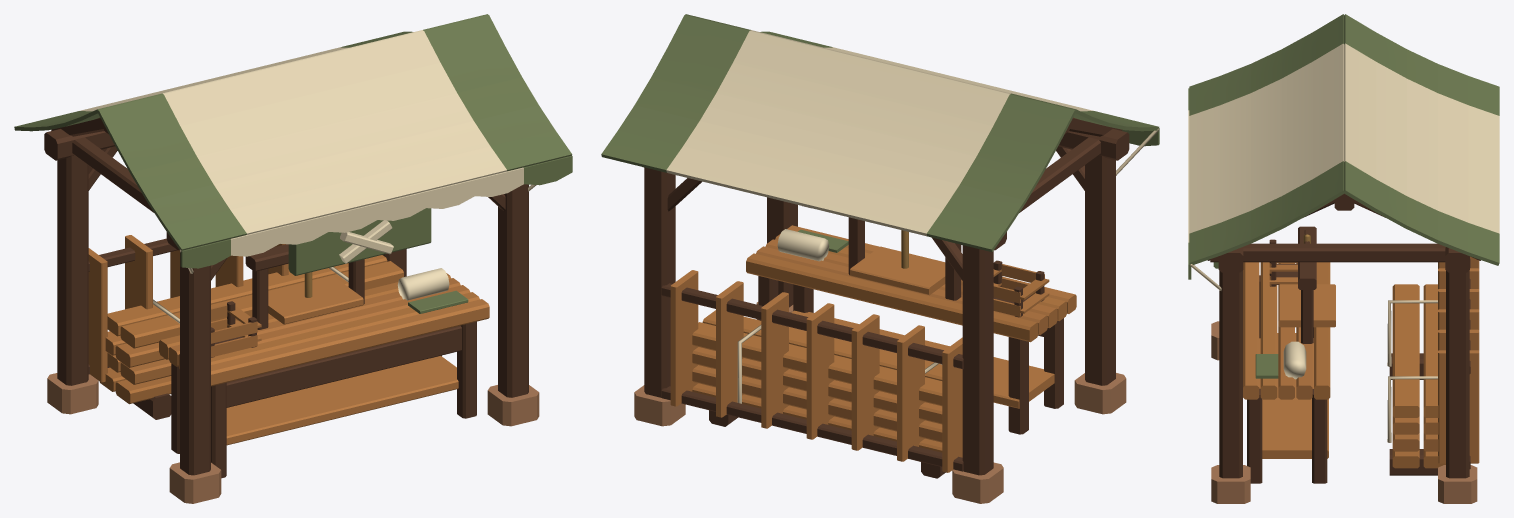
The model's file is station_trade_pinewatch_a.glb.
3 renders of one model, left to right at view 1: azimuth 30°, elevation 25°; view 2: azimuth 150°, elevation 25°; view 3: azimuth 270°, elevation 25°, orthographic. The views are drawn at different scales.
Visible parts, largest first — view 1: station_trade_pinewatch_a_workyard; view 2: station_trade_pinewatch_a_workyard; view 3: station_trade_pinewatch_a_workyard.
Boxes of the visible parts, x1,y1,x2,y2 form: station_trade_pinewatch_a_workyard: (14, 14, 572, 503); station_trade_pinewatch_a_workyard: (601, 14, 1159, 503); station_trade_pinewatch_a_workyard: (1188, 14, 1499, 503).
Size of the model in its own units: 4.07 by 3.45 by 3.02.
